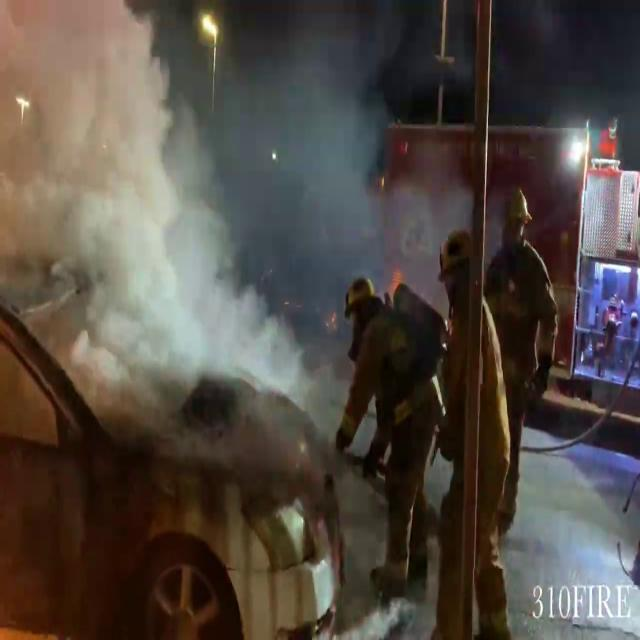Smoke: (3, 4, 430, 418)
